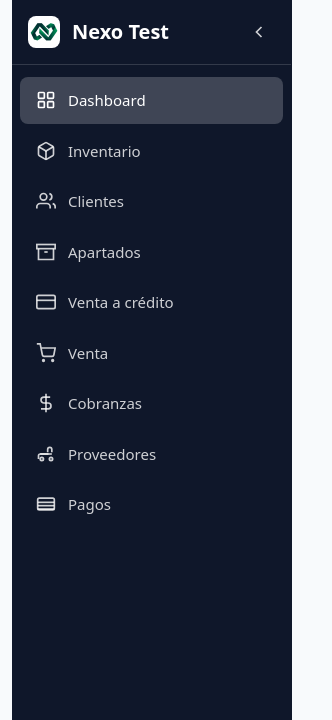
Test: Sidebar › toggles collapsed state on button click
Click the button named "colapsar" at [259, 32], box [243, 16, 275, 48]
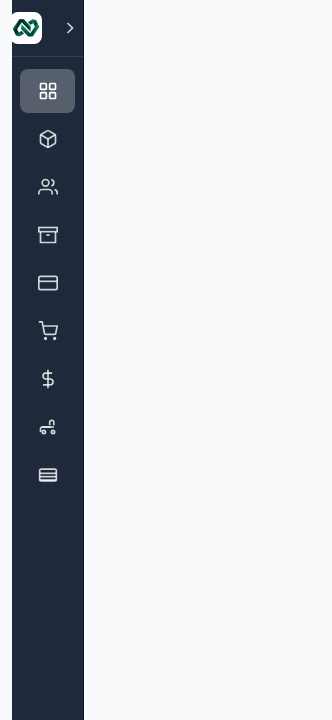
Expected: the button named "expandir" is shown, [54, 12, 84, 44]
